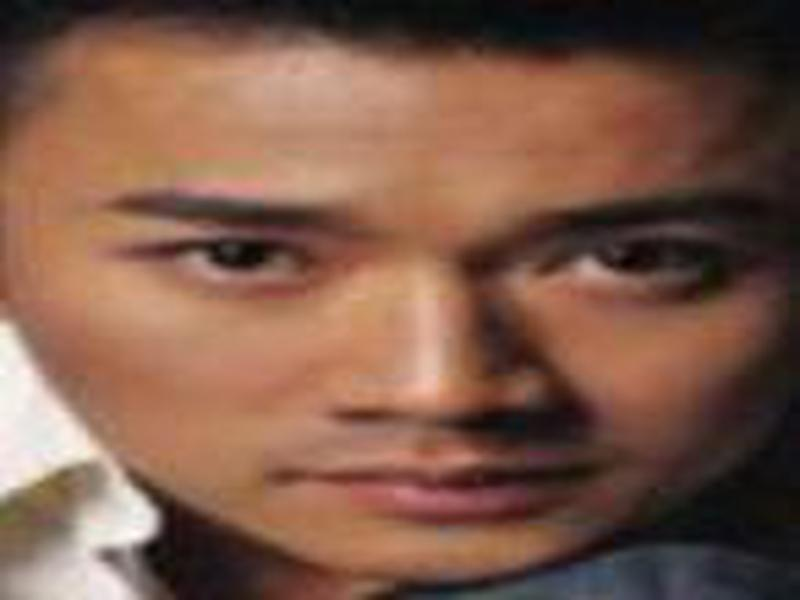without_mask: (2, 38, 785, 584)
